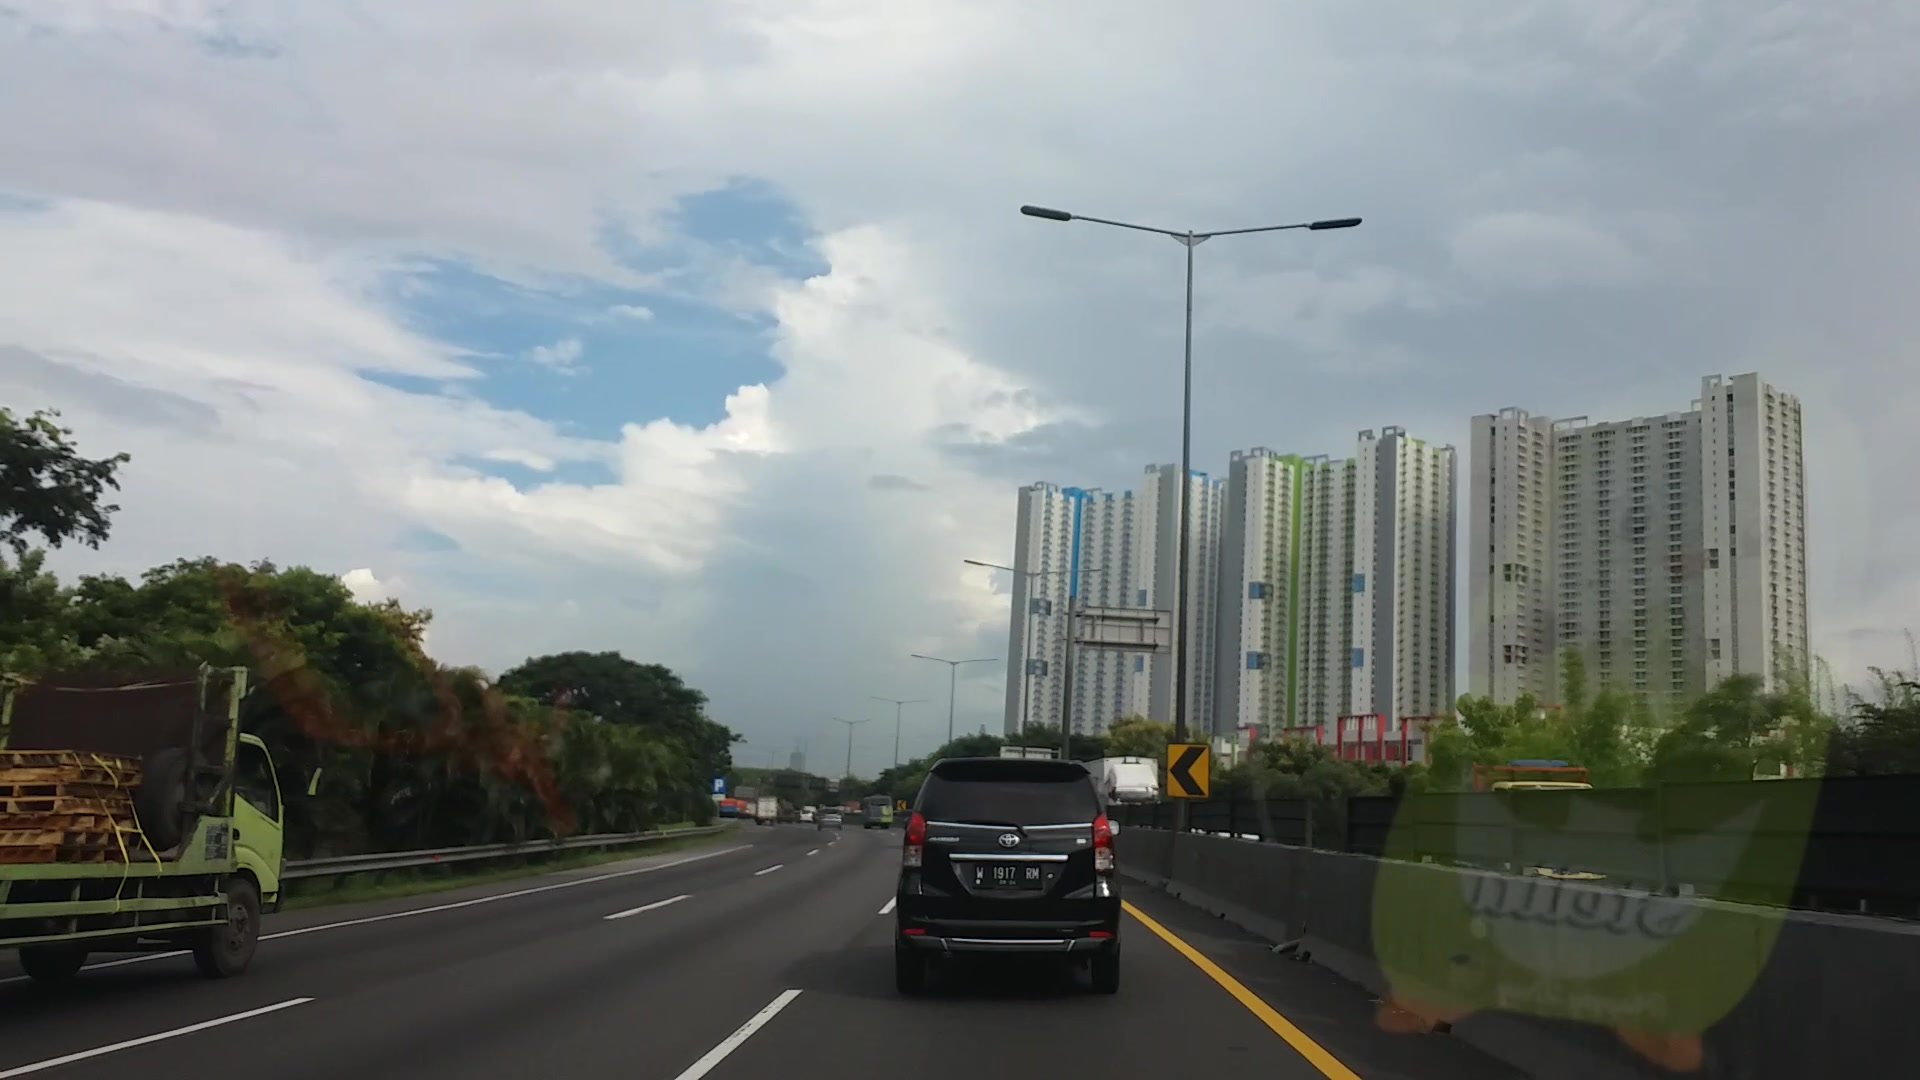plate_positive: (972, 864, 1043, 887)
